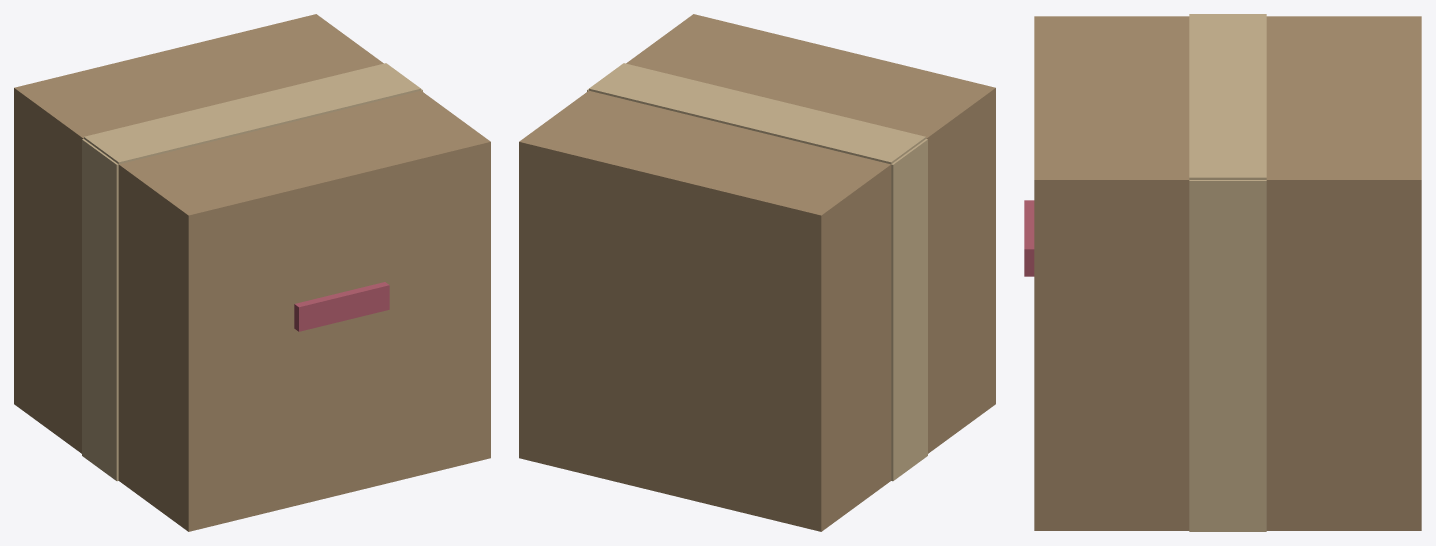
Rendered from mdl_objects_crate_wood_001.glb.
The picture shows the model from 3 angles, left to right: view 1: azimuth 30°, elevation 25°; view 2: azimuth 150°, elevation 25°; view 3: azimuth 270°, elevation 25°; orthographic projection. The views are drawn at different scales.
Visible parts, largest first — view 1: m_madera, m_madera_clara, m_carmesi; view 2: m_madera, m_madera_clara; view 3: m_madera, m_madera_clara, m_carmesi.
Part boxes in pixels (x1,y1,x2,y2): m_madera: (14, 14, 490, 531); m_madera_clara: (82, 63, 422, 481); m_carmesi: (294, 282, 389, 331); m_madera: (519, 14, 995, 531); m_madera_clara: (587, 63, 927, 481); m_madera: (1034, 16, 1421, 530); m_madera_clara: (1189, 14, 1266, 531); m_carmesi: (1024, 200, 1034, 276).
Bounding box in the file's own units: 0.7831 × 0.7781 × 0.7931.
